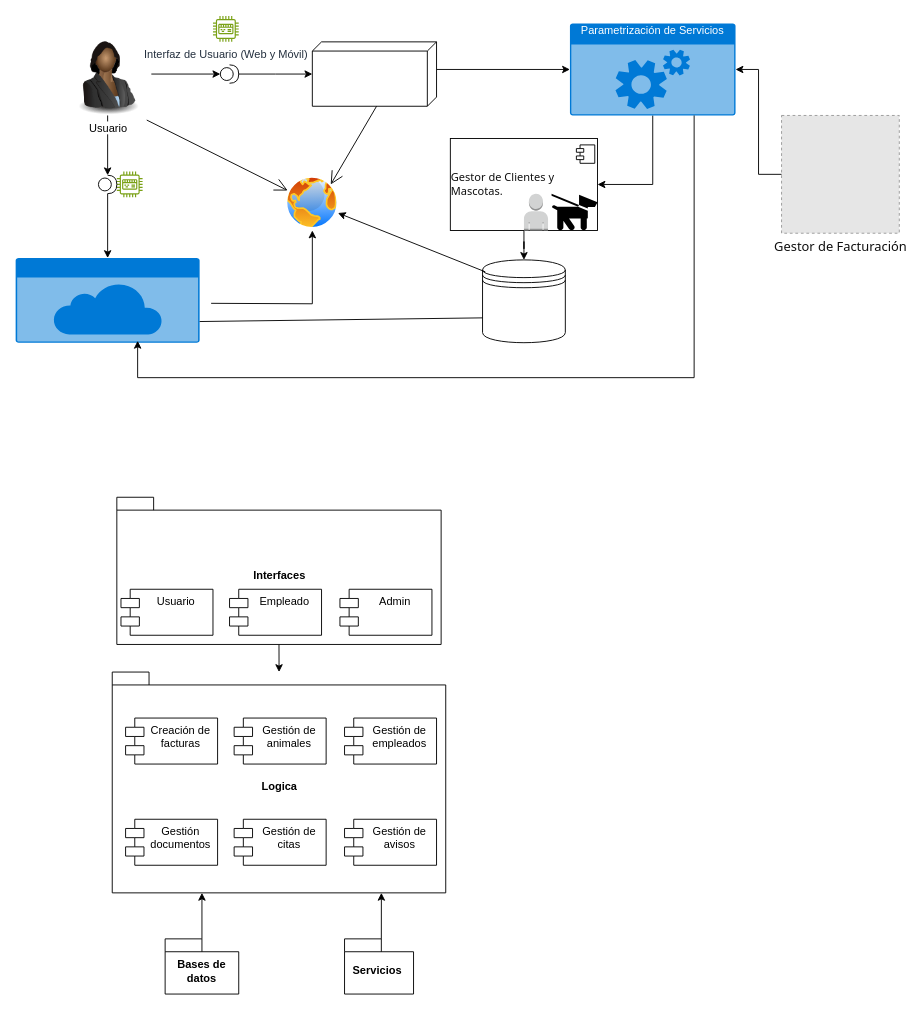
The diagram is 923 pixels wide and 1010 high, and some of its shapes have lost their labels. Grey dashed boxes stand in for pictures. Each missing label, with the centre of its shape:
"Autenticación" goes at (374,73).
"Conexión a Internet" goes at (311,202).
"Historial de Atenciones y Servicios" goes at (523,301).
"Servicios Web para Consulta y Citas" goes at (107,300).
